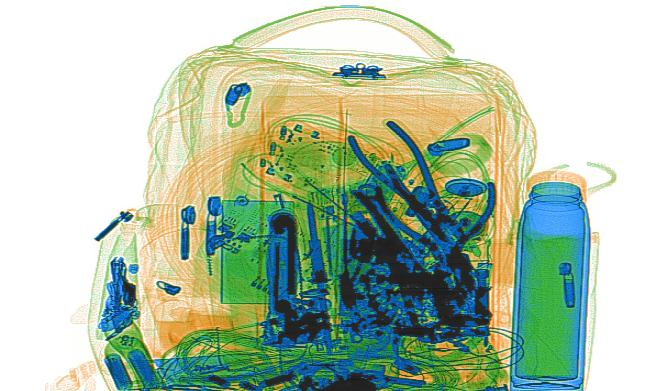battery: (125, 347, 161, 388), (102, 351, 133, 389)
